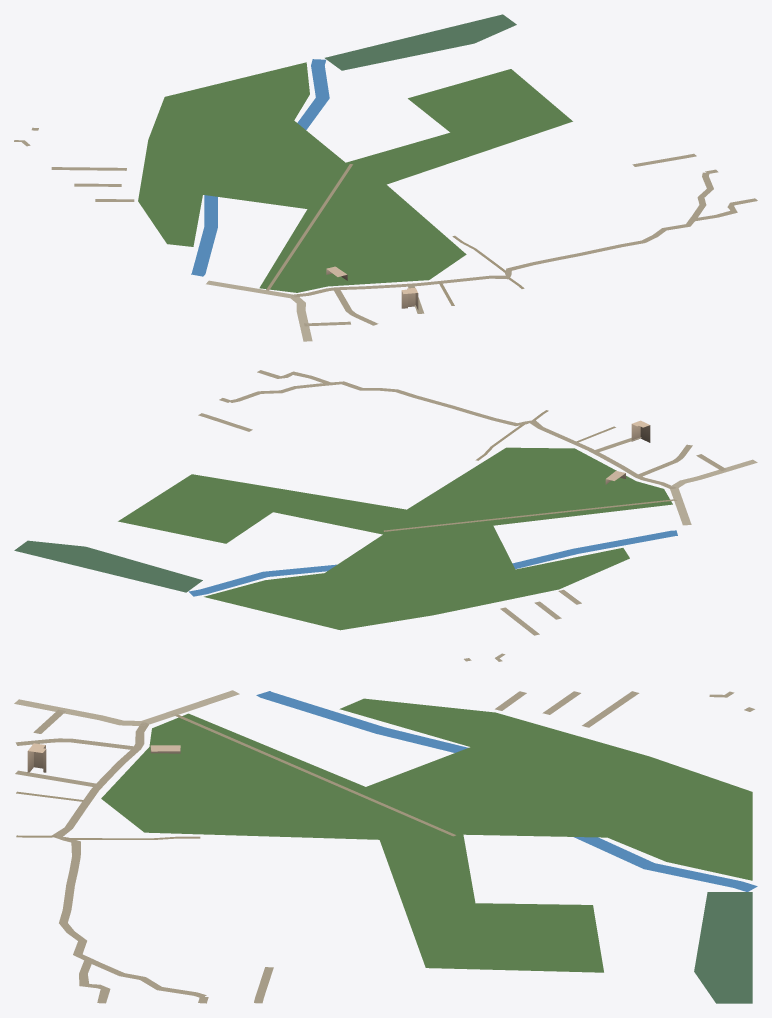
The picture shows the model from 3 angles, top to bottom: view 1: azimuth 30°, elevation 25°; view 2: azimuth 150°, elevation 25°; view 3: azimuth 270°, elevation 25°; orthographic projection. The views are drawn at different scales.
Parts seen in each view (by area): view 1: ground, water; view 2: ground, water, building; view 3: ground, water, building.
Boxes of the visible parts, x1,y1,x2,y2 form: ground: (14, 14, 757, 341); water: (191, 59, 329, 276); ground: (14, 370, 757, 661); water: (188, 530, 677, 596); building: (605, 420, 650, 484); ground: (14, 690, 754, 1003); water: (256, 691, 757, 891); building: (27, 743, 180, 772).
Size of the model in its own units: 504 by 18 by 505.
